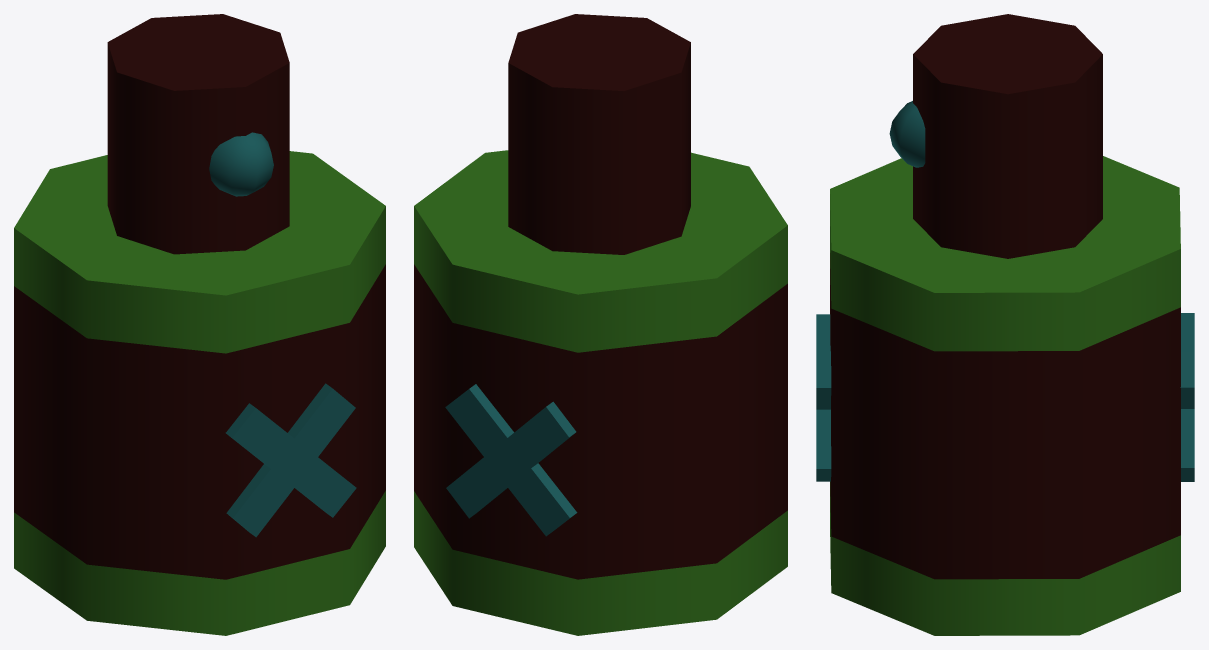
The model's file is PowerupInseticida.fbx.
3 renders of one model, left to right at view 1: azimuth 30°, elevation 25°; view 2: azimuth 150°, elevation 25°; view 3: azimuth 270°, elevation 25°, orthographic.
Parts seen in each view (by area): view 1: FlashItem; view 2: FlashItem; view 3: FlashItem.
Part boxes in pixels (x1,y1,x2,y2): FlashItem: (14,14,385,635); FlashItem: (414,14,787,635); FlashItem: (816,14,1194,635).
Bounding box in the file's own units: 6.66 × 10.63 × 7.18.
